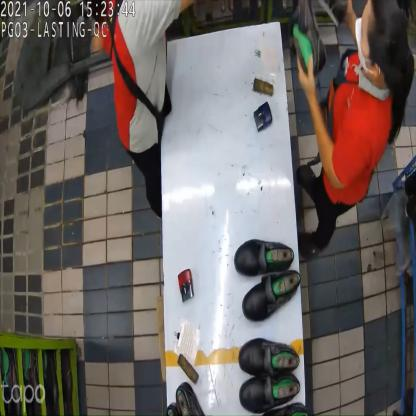shoes: (238, 331, 301, 415), (236, 236, 300, 317)
stamp: (252, 100, 274, 131), (178, 273, 197, 304)
